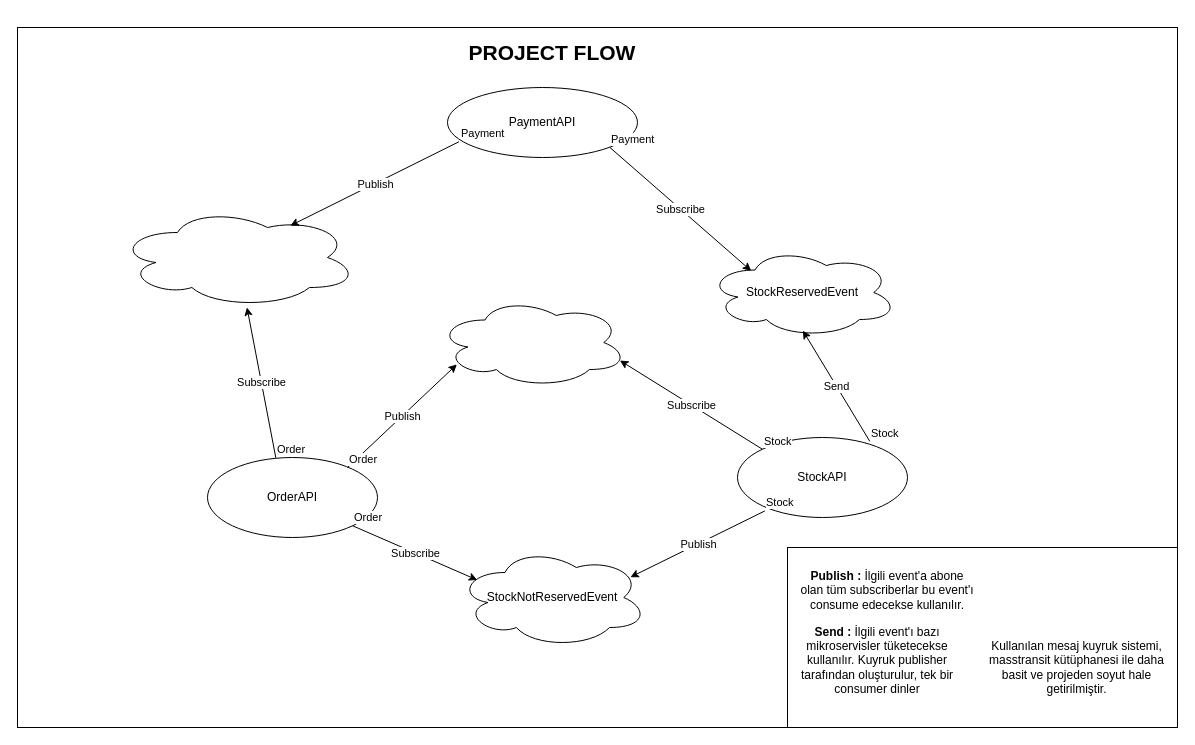
The diagram is 1195 pixels wide and 745 high, and some of its shapes have lost their labels. Here are the shapes that lost their labels. From the top down, the box of each, then its label:
(116, 206, 358, 308): PaymentCompletedEvent or PaymentFailedEvent
(436, 296, 628, 388): OrderCreatedEvent
